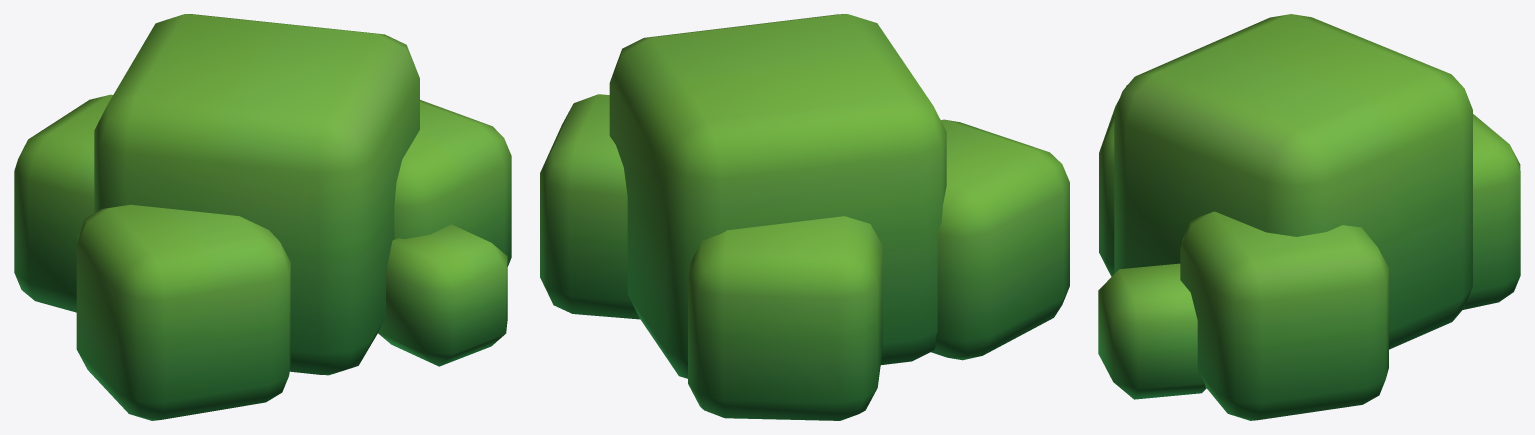
File: forest_bush_2.glb
3 views of the same model, side by side, from view 1: azimuth 30°, elevation 25°; view 2: azimuth 150°, elevation 25°; view 3: azimuth 270°, elevation 25° (orthographic). The views are drawn at different scales.
Visible parts, largest first — view 1: Bush_2_E_Color1; view 2: Bush_2_E_Color1; view 3: Bush_2_E_Color1.
Boxes of the visible parts, left/top/right/bottom form: Bush_2_E_Color1: left=14, top=14, right=511, bottom=420; Bush_2_E_Color1: left=540, top=14, right=1069, bottom=420; Bush_2_E_Color1: left=1098, top=14, right=1520, bottom=420.
Size of the model in its own units: 2.35 by 1.33 by 2.01.
1 material, 1 textured.
